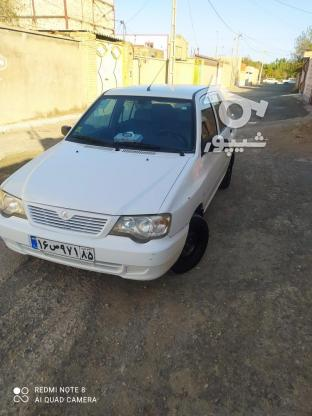car: (31, 235, 98, 265)
